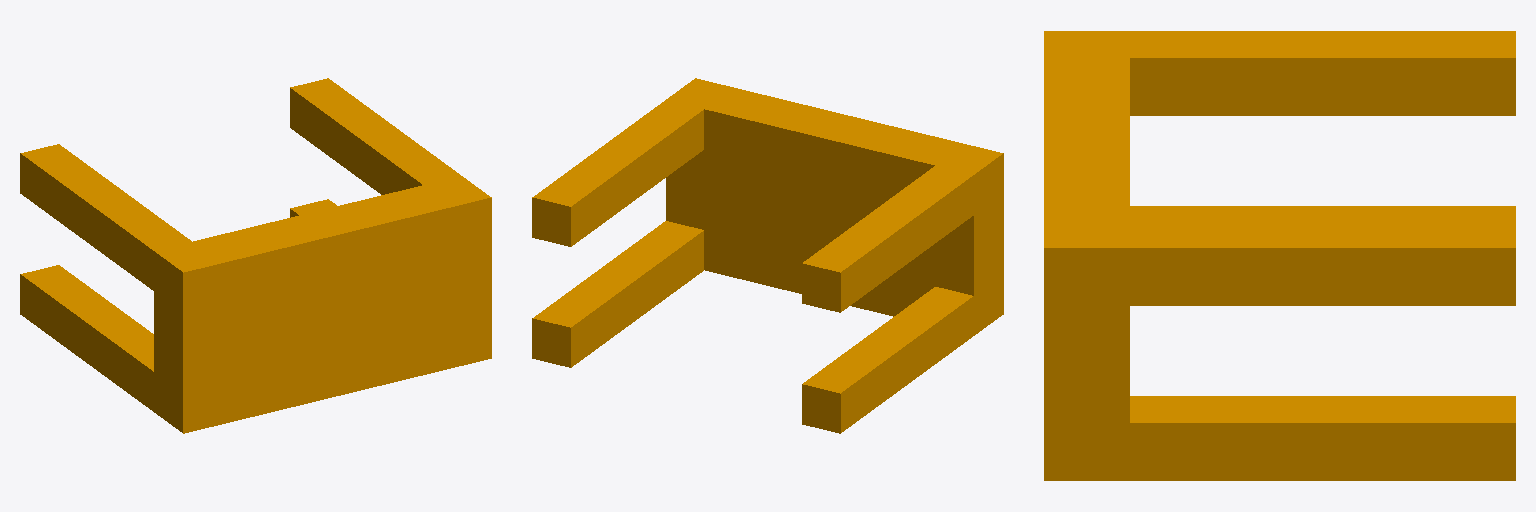
The robot description file, URDF, robot "my_part":
<robot name="my_part">
  <link name="base_link">
    <visual>
      <origin xyz="0 0 0" rpy="0 0 0"/>
      <geometry>
        <mesh filename="package://T170A/meshes/scenario/desk.STL" scale="1 1 1"/>
      </geometry>
    </visual>
    <collision>
      <origin xyz="0 0 0" rpy="0 0 0"/>
      <geometry>
        <mesh filename="package://T170A/meshes/scenario/desk.STL" scale="1 1 1"/>
      </geometry>
    </collision>
    <inertial>
      <mass value="10.0"/>
      <origin xyz="0 0 0" rpy="0 0 0"/>
      <inertia
        ixx="0.1" ixy="0.0" ixz="0.0"
        iyy="0.1" iyz="0.0"
        izz="0.1"/>
    </inertial>
  </link>
</robot>


--- What the picture shows (computed from the rendered views, not written in the file) ---
3 views of the same robot in one strip: view 1: azimuth 30°, elevation 25°; view 2: azimuth 150°, elevation 25°; view 3: azimuth 270°, elevation 25° (orthographic).
Model my_part with 1 links and 0 joints (none), rooted at base_link, posed every joint at zero.
Links seen in each view (by area): view 1: base_link; view 2: base_link; view 3: base_link.
Boxes of the visible links, bbox=[...] form: base_link: bbox=[20, 78, 491, 433]; base_link: bbox=[532, 78, 1003, 433]; base_link: bbox=[1044, 31, 1515, 480].
Size in the robot's own frame: 1.2 by 1.1 by 0.6 metres.
Meshes: 1 distinct files referenced, 1 mesh visuals loaded (1 binary STL).